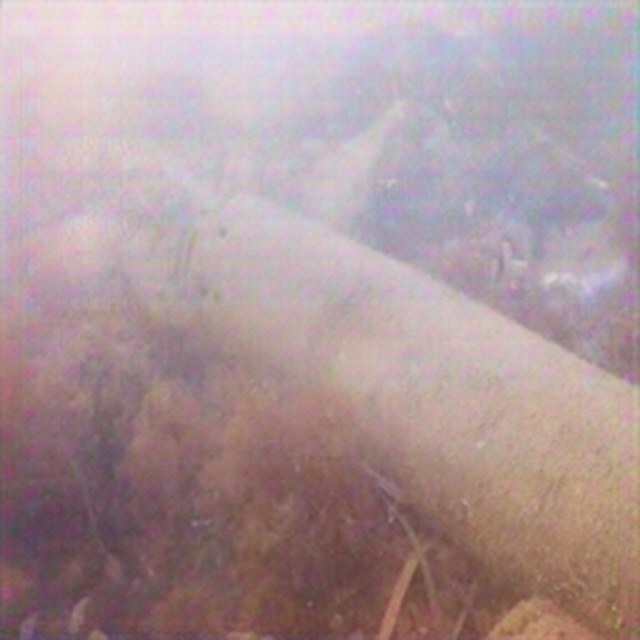mine: (180, 188, 639, 639)
